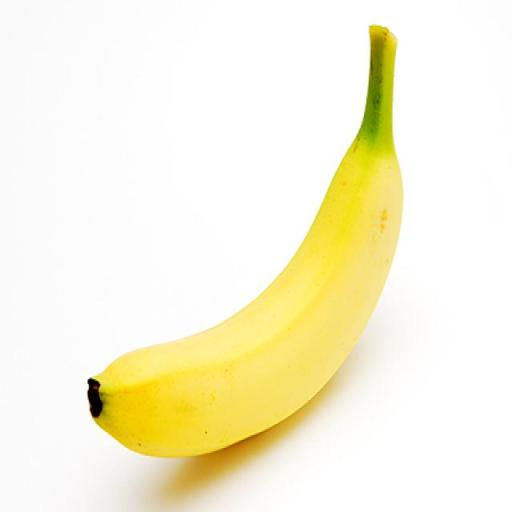fruit: (88, 27, 402, 456)
